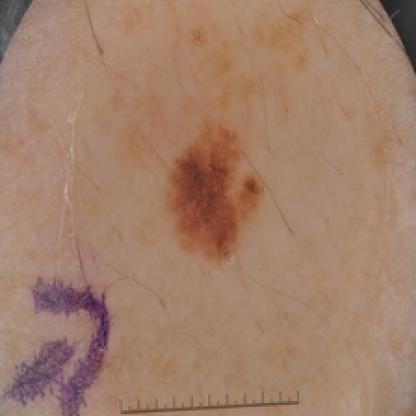malignant: (171, 117, 273, 271)
